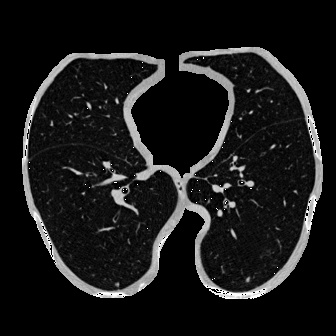PN: (246, 277, 250, 281)
